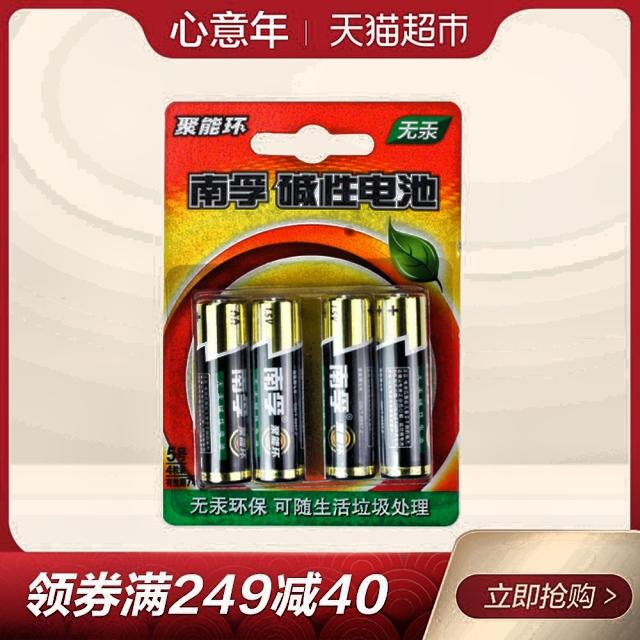Non-Valuable Waste - Batteries: (375, 290, 431, 478), (195, 299, 251, 485), (251, 298, 305, 482), (321, 295, 375, 479)
